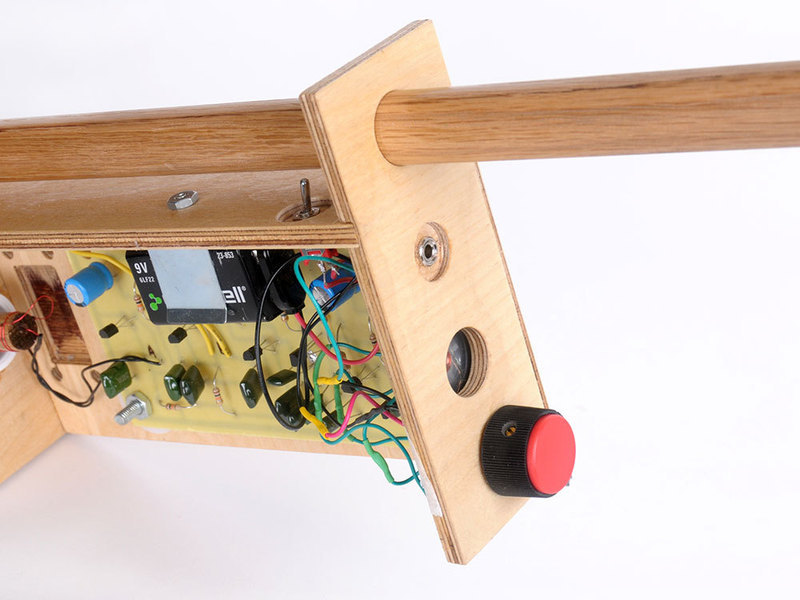capacitor: (63, 262, 115, 307)
